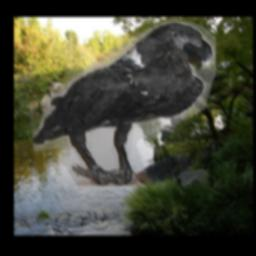Crow: (33, 22, 216, 187)
